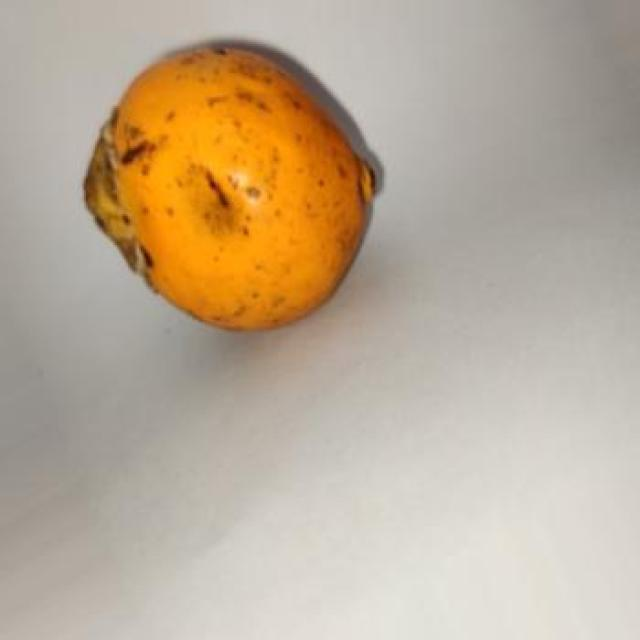good: (84, 42, 382, 333)
